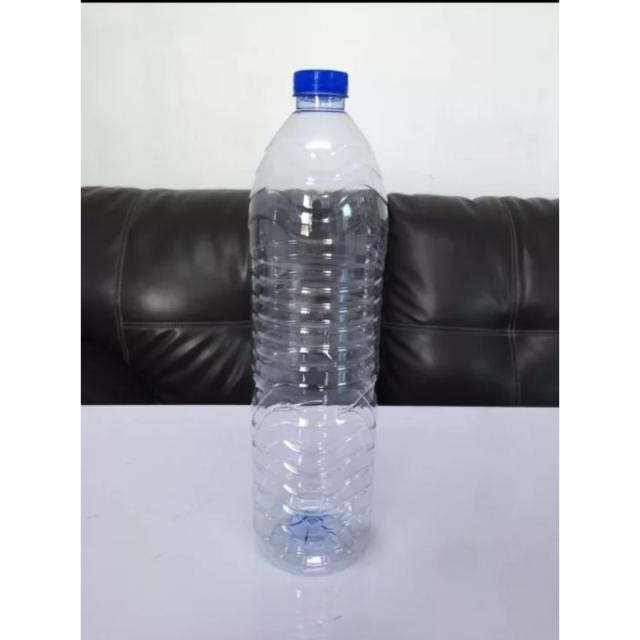bottle: (247, 66, 392, 576)
